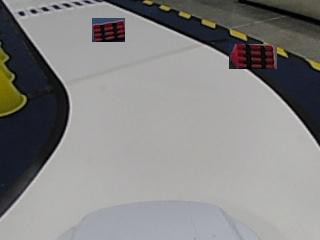crosswalk: (11, 0, 94, 17)
